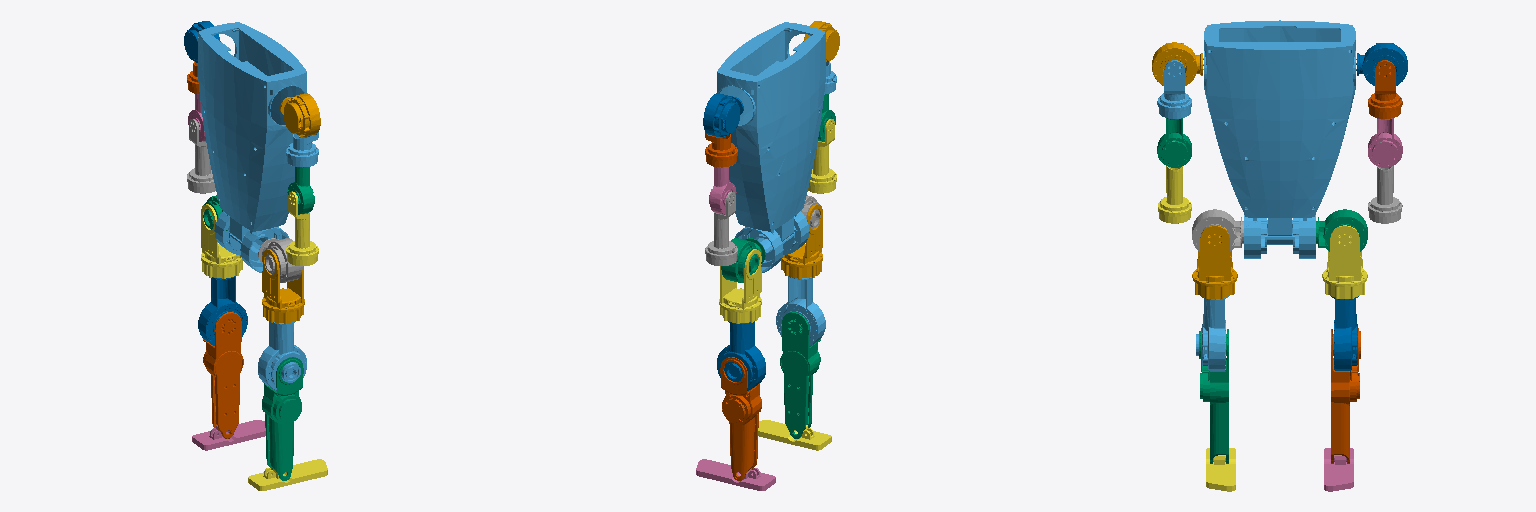
robot.urdf — robot:
<robot name="robot">
  <link name="base">
    <inertial>
      <origin rpy="0.0 0.0 0.0" xyz="0.0 0.0 0.0" />
      <mass value="0.001" />
      <inertia ixx="0.0001" ixy="0.0" ixz="0.0" iyy="0.0001" iyz="0.0" izz="0.0001" />
      </inertial>
    </link>
  <joint name="floating_base" type="fixed">
    <origin rpy="0 0 0" xyz="0 0 0.0" />
    <parent link="base" />
    <child link="trunk" />
    </joint>
  <link name="trunk">
    <inertial>
      <origin rpy="0.0 0.0 0.0" xyz="-0.00051930492 0.00030343937 0.21140495" />
      <mass value="13.05315" />
      <inertia ixx="0.56635021" ixy="-5.2717245e-05" ixz="-0.00020117771" iyy="0.462714" iyz="0.00062003391" izz="0.13193241" />
      </inertial>
    <visual>
      <origin rpy="0.0 0.0 0.0" xyz="0.0 0.0 0.0" />
      <geometry>
        <mesh filename="meshes/trunk.stl" scale="1e-3 1e-3 1e-3" />
        </geometry>
      </visual>
    <collision>
      <origin rpy="0.0 0.0 0.0" xyz="0.0 0.0 0.0" />
      <geometry>
        <mesh filename="meshes/trunk.stl" scale="1e-3 1e-3 1e-3" />
        </geometry>
      </collision>
    </link>
  <joint name="L_hip_y" type="revolute">
    <origin rpy="0 0 0" xyz="0 0.1577 0" />
    <parent link="trunk" />
    <child link="L_buttock" />
    <axis xyz="0.0 1.0 0" />
    <limit effort="120" lower="-3.14" upper="3.14" velocity="5" />
    <dynamics damping="0" friction="0" />
    </joint>
  <link name="L_buttock">
    <inertial>
      <origin rpy="0.0 0.0 0.0" xyz="0.0012918323 -0.0018432774 2.2794594e-05" />
      <mass value="1.2990888" />
      <inertia ixx="0.0020931102" ixy="-1.0314072e-05" ixz="5.1795876e-07" iyy="0.0013118768" iyz="-4.0767562e-07" izz="0.0015000916" />
      </inertial>
    <visual>
      <origin rpy="3.1415926 0 0" xyz="0 0 0" />
      <geometry>
        <mesh filename="meshes/buttock.stl" scale="1e-3 1e-3 1e-3" />
        </geometry>
      </visual>
    <collision>
      <origin rpy="3.1415926 0 0" xyz="0 0 0" />
      <geometry>
        <mesh filename="meshes/buttock.stl" scale="1e-3 1e-3 1e-3" />
        </geometry>
      </collision>
    </link>
  <joint name="L_hip_x" type="revolute">
    <origin rpy="0.0 0.0 0.0" xyz="0 0 0" />
    <parent link="L_buttock" />
    <child link="L_leg" />
    <axis xyz="1.0 0.0 0.0" />
    <limit effort="60" lower="-0.523" upper="2.093" velocity="5" />
    <dynamics damping="0" friction="0" />
    </joint>
  <link name="L_leg">
    <inertial>
      <origin rpy="0.0 0.0 0.0" xyz="0.00070860204 -2.2435483e-05 -0.11035196" />
      <mass value="1.3398346" />
      <inertia ixx="0.00350784" ixy="3.4919088e-07" ixz="-0.00015597216" iyy="0.0037534076" iyz="-7.0069817e-08" izz="0.0018582238" />
      </inertial>
    <visual>
      <geometry>
        <mesh filename="meshes/leg.stl" scale="1e-3 1e-3 1e-3" />
        </geometry>
      </visual>
    <collision>
      <origin rpy="0 0 0" xyz="0 0 0" />
      <geometry>
        <mesh filename="meshes/leg.stl" scale="1e-3 1e-3 1e-3" />
        </geometry>
      </collision>
    </link>
  <joint name="L_hip_z" type="revolute">
    <origin rpy="0.0 0 0.0" xyz="0 0 0" />
    <parent link="L_leg" />
    <child link="L_thigh" />
    <axis xyz="0.0 0.0 1.0" />
    <limit effort="60" lower="-3.14" upper="3.14" velocity="5" />
    <dynamics damping="0" friction="0" />
    </joint>
  <link name="L_thigh">
    <inertial>
      <origin rpy="0.0 0.0 0.0" xyz="-0.00040735676 0.0013053813 -0.29165284" />
      <mass value="1.9399504" />
      <inertia ixx="0.0044937128" ixy="2.1462344e-05" ixz="1.0739651e-05" iyy="0.0060757923" iyz="-2.6643735e-05" izz="0.0029354143" />
      </inertial>
    <visual>
      <geometry>
        <mesh filename="meshes/mthigh.stl" scale="1e-3 1e-3 1e-3" />
        </geometry>
      </visual>
    <collision>
      <origin rpy="0 0 0" xyz="0 0 0" />
      <geometry>
        <mesh filename="meshes/mthigh.stl" scale="1e-3 1e-3 1e-3" />
        </geometry>
      </collision>
    </link>
  <joint name="L_knee" type="revolute">
    <origin rpy="0.0 0.0 0.0" xyz="0 0 -0.3" />
    <parent link="L_thigh" />
    <child link="L_calf" />
    <axis xyz="0.0 1.0 0.0" />
    <limit effort="120" lower="-1.919" upper="1.919" velocity="5" />
    <dynamics damping="0" friction="0" />
    </joint>
  <link name="L_calf">
    <inertial>
      <origin rpy="0.0 0.0 0.0" xyz="-0.0019535236 -0.0043433803 -0.13404794" />
      <mass value="1.544772" />
      <inertia ixx="0.0097259036" ixy="-4.7543777e-05" ixz="-0.00019535575" iyy="0.0098345988" iyz="-0.00037837351" izz="0.0014598955" />
      </inertial>
    <visual>
      <geometry>
        <mesh filename="meshes/mcalf.stl" scale="1e-3 1e-3 1e-3" />
        </geometry>
      </visual>
    <collision>
      <origin rpy="0 0 0" xyz="0 0 0" />
      <geometry>
        <mesh filename="meshes/mcalf.stl" scale="1e-3 1e-3 1e-3" />
        </geometry>
      </collision>
    </link>
  <joint name="L_ankle_y" type="revolute">
    <origin rpy="0.0 0.0 0.0" xyz="0 0 -0.3" />
    <parent link="L_calf" />
    <child link="L_foot" />
    <axis xyz="0.0 1.0 0.0" />
    <limit effort="17" lower="-0.698" upper="0.698" velocity="5" />
    <dynamics damping="0" friction="0" />
    </joint>
  <link name="L_foot">
    <inertial>
      <origin rpy="0.0 0.0 0.0" xyz="0.023366504 0.014827011 -0.016531354" />
      <mass value="0.54237266" />
      <inertia ixx="0.00025746264" ixy="-3.4761901e-05" ixz="3.5533704e-05" iyy="0.0019652138" iyz="3.5259776e-06" izz="0.0021498817" />
      </inertial>
    <visual>
      <geometry>
        <mesh filename="meshes/mfoot.stl" scale="1e-3 1e-3 1e-3" />
        </geometry>
      </visual>
    <collision>
      <origin rpy="0.0 0.0 0.0" xyz="30e-3 -11e-3 -20e-3" />
      <geometry>
        <box size="220e-3 80e-3 15e-3" />
        </geometry>
      </collision>
    </link>
  <joint name="R_hip_y" type="revolute">
    <origin rpy="0 0 0" xyz="0 -0.1577 0" />
    <parent link="trunk" />
    <child link="R_buttock" />
    <axis xyz="0.0 1.0 0" />
    <limit effort="120" lower="-3.14" upper="3.14" velocity="5" />
    <dynamics damping="0" friction="0" />
    </joint>
  <link name="R_buttock">
    <inertial>
      <origin rpy="0.0 0.0 0.0" xyz="0.0012918323 0.0018432774 2.2794594e-05" />
      <mass value="1.2990888" />
      <inertia ixx="0.0020931102" ixy="1.0314072e-05" ixz="5.1795876e-07" iyy="0.0013118768" iyz="4.0767562e-07" izz="0.0015000916" />
      </inertial>
    <visual>
      <origin rpy="0 0 0" xyz="0 0 0" />
      <geometry>
        <mesh filename="meshes/buttock.stl" scale="1e-3 1e-3 1e-3" />
        </geometry>
      </visual>
    <collision>
      <origin rpy="0 0 0" xyz="0 0 0" />
      <geometry>
        <mesh filename="meshes/buttock.stl" scale="1e-3 1e-3 1e-3" />
        </geometry>
      </collision>
    </link>
  <joint name="R_hip_x" type="revolute">
    <origin rpy="0.0 0.0 0.0" xyz="0 0 0" />
    <parent link="R_buttock" />
    <child link="R_leg" />
    <axis xyz="1.0 0.0 0.0" />
    <limit effort="60" lower="-2.093" upper="0.523" velocity="5" />
    <dynamics damping="0" friction="0" />
    </joint>
  <link name="R_leg">
    <inertial>
      <origin rpy="0.0 0.0 0.0" xyz="0.00070860204 2.2435483e-05 -0.11035196" />
      <mass value="1.3398346" />
      <inertia ixx="0.00350784" ixy="-3.4919088e-07" ixz="-0.00015597216" iyy="0.0037534076" iyz="7.0069817e-08" izz="0.0018582238" />
      </inertial>
    <visual>
      <geometry>
        <mesh filename="meshes/leg.stl" scale="1e-3 1e-3 1e-3" />
        </geometry>
      </visual>
    <collision>
      <origin rpy="0 0 0" xyz="0 0 0" />
      <geometry>
        <mesh filename="meshes/leg.stl" scale="1e-3 1e-3 1e-3" />
        </geometry>
      </collision>
    </link>
  <joint name="R_hip_z" type="revolute">
    <origin rpy="0.0 0 0.0" xyz="0 0 0" />
    <parent link="R_leg" />
    <child link="R_thigh" />
    <axis xyz="0.0 0.0 1.0" />
    <limit effort="60" lower="-3.14" upper="3.14" velocity="5" />
    <dynamics damping="0" friction="0" />
    </joint>
  <link name="R_thigh">
    <inertial>
      <origin rpy="0.0 0.0 0.0" xyz="-0.00040735676 -0.0013053813 -0.29165284" />
      <mass value="1.9399504" />
      <inertia ixx="0.0044937128" ixy="-2.1462344e-05" ixz="1.0739651e-05" iyy="0.0060757923" iyz="2.6643735e-05" izz="0.0029354143" />
      </inertial>
    <visual>
      <geometry>
        <mesh filename="meshes/thigh.stl" scale="1e-3 1e-3 1e-3" />
        </geometry>
      </visual>
    <collision>
      <origin rpy="0 0 0" xyz="0 0 0" />
      <geometry>
        <mesh filename="meshes/thigh.stl" scale="1e-3 1e-3 1e-3" />
        </geometry>
      </collision>
    </link>
  <joint name="R_knee" type="revolute">
    <origin rpy="0.0 0.0 0.0" xyz="0 0 -0.3" />
    <parent link="R_thigh" />
    <child link="R_calf" />
    <axis xyz="0.0 1.0 0.0" />
    <limit effort="120" lower="-1.919" upper="1.919" velocity="5" />
    <dynamics damping="0" friction="0" />
    </joint>
  <link name="R_calf">
    <inertial>
      <origin rpy="0.0 0.0 0.0" xyz="-0.0019535236 0.0043433803 -0.13404794" />
      <mass value="1.544772" />
      <inertia ixx="0.0097259036" ixy="4.7543777e-05" ixz="-0.00019535575" iyy="0.0098345988" iyz="0.00037837351" izz="0.0014598955" />
      </inertial>
    <visual>
      <geometry>
        <mesh filename="meshes/calf.stl" scale="1e-3 1e-3 1e-3" />
        </geometry>
      </visual>
    <collision>
      <origin rpy="0 0 0" xyz="0 0 0" />
      <geometry>
        <mesh filename="meshes/calf.stl" scale="1e-3 1e-3 1e-3" />
        </geometry>
      </collision>
    </link>
  <joint name="R_ankle_y" type="revolute">
    <origin rpy="0.0 0.0 0.0" xyz="0 0 -0.3" />
    <parent link="R_calf" />
    <child link="R_foot" />
    <axis xyz="0.0 1.0 0.0" />
    <limit effort="17" lower="-0.698" upper="0.698" velocity="5" />
    <dynamics damping="0" friction="0" />
    </joint>
  <link name="R_foot">
    <inertial>
      <origin rpy="0.0 0.0 0.0" xyz="0.023366504 0.014827011 -0.016531354" />
      <mass value="0.54237266" />
      <inertia ixx="0.00025746264" ixy="-3.4761901e-05" ixz="3.5533704e-05" iyy="0.0019652138" iyz="3.5259776e-06" izz="0.0021498817" />
      </inertial>
    <visual>
      <geometry>
        <mesh filename="meshes/foot.stl" scale="1e-3 1e-3 1e-3" />
        </geometry>
      </visual>
    <collision>
      <origin rpy="0.0 0.0 0.0" xyz="30e-3 11e-3 -20e-3" />
      <geometry>
        <box size="220e-3 80e-3 15e-3" />
        </geometry>
      </collision>
    </link>
  <joint name="L_shoulder_y" type="fixed">
    <origin rpy="0 0 0" xyz="0 0.255 0.45" />
    <parent link="trunk" />
    <child link="L_clav" />
    <axis xyz="0.0 1.0 0.0" />
    <limit effort="60" lower="-3.1416" upper="3.1416" velocity="0" />
    <dynamics damping="0" friction="0" />
    </joint>
  <link name="L_clav">
    <inertial>
      <origin rpy="0.0 0.0 0.0" xyz="0.0012122056 -0.0015095858 -9.3677479e-05" />
      <mass value="1.1246895" />
      <inertia ixx="0.0017070766" ixy="-2.3820729e-06" ixz="-6.7619904e-06" iyy="0.0010595629" iyz="-3.2352008e-07" izz="0.001122517" />
      </inertial>
    <visual>
      <origin rpy="-3.1415926 0 0" xyz="0 0 0" />
      <geometry>
        <mesh filename="meshes/clav.stl" scale="1e-3 1e-3 1e-3" />
        </geometry>
      </visual>
    <collision>
      <origin rpy="-3.1415926 0 0" xyz="0 0 0" />
      <geometry>
        <mesh filename="meshes/clav.stl" scale="1e-3 1e-3 1e-3" />
        </geometry>
      </collision>
    </link>
  <joint name="L_shoulder_x" type="fixed">
    <origin rpy="0.0 0.0 0.0" xyz="0 0 0" />
    <parent link="L_clav" />
    <child link="L_scapula" />
    <axis xyz="1.0 0.0 0.0" />
    <limit effort="60" lower="0" upper="3.1416" velocity="0" />
    <dynamics damping="0" friction="0" />
    </joint>
  <link name="L_scapula">
    <inertial>
      <origin rpy="0.0 0.0 0.0" xyz="0.0038106082 -0.0001642433 -0.095219061" />
      <mass value="0.65454544" />
      <inertia ixx="0.0011234347" ixy="-4.6391796e-06" ixz="-0.00021802428" iyy="0.0011878253" iyz="-1.8375484e-06" izz="0.00058824357" />
      </inertial>
    <visual>
      <geometry>
        <mesh filename="meshes/scap.stl" scale="1e-3 1e-3 1e-3" />
        </geometry>
      </visual>
    <collision>
      <geometry>
        <mesh filename="meshes/scap.stl" scale="1e-3 1e-3 1e-3" />
        </geometry>
      </collision>
    </link>
  <joint name="L_shoulder_z" type="fixed">
    <origin rpy="0.0 0.0 0.0" xyz="0 0 0" />
    <parent link="L_scapula" />
    <child link="L_uarm" />
    <axis xyz="0.0 0.0 1.0" />
    <limit effort="17" lower="-3.14" upper="3.14" velocity="0" />
    <dynamics damping="0" friction="0" />
    </joint>
  <link name="L_uarm">
    <inertial>
      <origin rpy="0.0 0.0 0.0" xyz="-0.0039088302 0.00017072539 -0.22223086" />
      <mass value="0.58244405" />
      <inertia ixx="0.00083861306" ixy="-9.1542325e-08" ixz="0" iyy="0.00067605212" iyz="-2.7860944e-06" izz="0.0003615168" />
      </inertial>
    <visual>
      <geometry>
        <mesh filename="meshes/uarm.stl" scale="1e-3 1e-3 1e-3" />
        </geometry>
      </visual>
    <collision>
      <geometry>
        <mesh filename="meshes/uarm.stl" scale="1e-3 1e-3 1e-3" />
        </geometry>
      </collision>
    </link>
  <joint name="L_elbow_x" type="fixed">
    <origin rpy="0.0 0.0 0.0" xyz="0 0 -0.23" />
    <parent link="L_uarm" />
    <child link="L_farm" />
    <axis xyz="1.0 0 0.0" />
    <limit effort="17" lower="-1.9199" upper="1.9199" velocity="0" />
    <dynamics damping="0" friction="0" />
    </joint>
  <link name="L_farm">
    <inertial>
      <origin rpy="0.0 0.0 0.0" xyz="-0.0024082691 0.00017091831 -0.14069589" />
      <mass value="0.66002606" />
      <inertia ixx="0.0016198862" ixy="3.700055e-06" ixz="0.00013980511" iyy="0.0016516658" iyz="2.349341e-06" izz="0.00054139396" />
      </inertial>
    <visual>
      <geometry>
        <mesh filename="meshes/farm.stl" scale="1e-3 1e-3 1e-3" />
        </geometry>
      </visual>
    <collision>
      <geometry>
        <mesh filename="meshes/farm.stl" scale="1e-3 1e-3 1e-3" />
        </geometry>
      </collision>
    </link>
  <joint name="R_shoulder_y" type="fixed">
    <origin rpy="0 0 0" xyz="0 -0.255 0.45" />
    <parent link="trunk" />
    <child link="R_clav" />
    <axis xyz="0.0 1.0 0.0" />
    <limit effort="60" lower="-3.1416" upper="3.1416" velocity="0" />
    <dynamics damping="0" friction="0" />
    </joint>
  <link name="R_clav">
    <inertial>
      <origin rpy="0.0 0.0 0.0" xyz="0.0012122056 0.0015095858 -9.3677479e-05" />
      <mass value="1.1246895" />
      <inertia ixx="0.0017070766" ixy="2.3820729e-06" ixz="-6.7619904e-06" iyy="0.0010595629" iyz="3.2352008e-07" izz="0.001122517" />
      </inertial>
    <visual>
      <origin rpy="0 0 0" xyz="0 0 0" />
      <geometry>
        <mesh filename="meshes/clav.stl" scale="1e-3 1e-3 1e-3" />
        </geometry>
      </visual>
    <collision>
      <origin rpy="0 0 0" xyz="0 0 0" />
      <geometry>
        <mesh filename="meshes/clav.stl" scale="1e-3 1e-3 1e-3" />
        </geometry>
      </collision>
    </link>
  <joint name="R_shoulder_x" type="fixed">
    <origin rpy="0.0 0.0 0.0" xyz="0 0 0" />
    <parent link="R_clav" />
    <child link="R_scapula" />
    <axis xyz="1.0 0.0 0.0" />
    <limit effort="60" lower="-3.1416" upper="0" velocity="0" />
    <dynamics damping="0" friction="0" />
    </joint>
  <link name="R_scapula">
    <inertial>
      <origin rpy="0.0 0.0 0.0" xyz="0.0038106082 -0.0001642433 -0.095219061" />
      <mass value="0.65454544" />
      <inertia ixx="0.0011234347" ixy="-4.6391796e-06" ixz="-0.00021802428" iyy="0.0011878253" iyz="-1.8375484e-06" izz="0.00058824357" />
      </inertial>
    <visual>
      <geometry>
        <mesh filename="meshes/scap.stl" scale="1e-3 1e-3 1e-3" />
        </geometry>
      </visual>
    <collision>
      <geometry>
        <mesh filename="meshes/scap.stl" scale="1e-3 1e-3 1e-3" />
        </geometry>
      </collision>
    </link>
  <joint name="R_shoulder_z" type="fixed">
    <origin rpy="0.0 0.0 0.0" xyz="0 0 0" />
    <parent link="R_scapula" />
    <child link="R_uarm" />
    <axis xyz="0.0 0.0 1.0" />
    <limit effort="17" lower="-3.14" upper="3.14" velocity="0" />
    <dynamics damping="0" friction="0" />
    </joint>
  <link name="R_uarm">
    <inertial>
      <origin rpy="0.0 0.0 0.0" xyz="-0.0039088302 -0.00017072539 -0.22223086" />
      <mass value="0.58244405" />
      <inertia ixx="0.00083861306" ixy="9.1542325e-08" ixz="0" iyy="0.00067605212" iyz="2.7860944e-06" izz="0.0003615168" />
      </inertial>
    <visual>
      <geometry>
        <mesh filename="meshes/uarm.stl" scale="1e-3 1e-3 1e-3" />
        </geometry>
      </visual>
    <collision>
      <geometry>
        <mesh filename="meshes/uarm.stl" scale="1e-3 1e-3 1e-3" />
        </geometry>
      </collision>
    </link>
  <joint name="R_elbow_x" type="fixed">
    <origin rpy="0.0 0.0 0.0" xyz="0 0 -0.23" />
    <parent link="R_uarm" />
    <child link="R_farm" />
    <axis xyz="1.0 0 0.0" />
    <limit effort="17" lower="-1.9199" upper="1.9199" velocity="0" />
    <dynamics damping="0" friction="0" />
    </joint>
  <link name="R_farm">
    <inertial>
      <origin rpy="0.0 0.0 0.0" xyz="-0.0024082691 -0.00017091831 -0.14069589" />
      <mass value="0.66002606" />
      <inertia ixx="0.0016198862" ixy="-3.700055e-06" ixz="0.00013980511" iyy="0.0016516658" iyz="-2.349341e-06" izz="0.00054139396" />
      </inertial>
    <visual>
      <geometry>
        <mesh filename="meshes/farm.stl" scale="1e-3 1e-3 1e-3" />
        </geometry>
      </visual>
    <collision>
      <geometry>
        <mesh filename="meshes/farm.stl" scale="1e-3 1e-3 1e-3" />
        </geometry>
      </collision>
    </link>
  </robot>

--- What the picture shows (computed from the rendered views, not written in the file) ---
3 views of the same robot in one strip: view 1: azimuth 30°, elevation 25°; view 2: azimuth 150°, elevation 25°; view 3: azimuth 270°, elevation 25° (orthographic).
Model robot with 20 links and 19 joints (10 revolute, 9 fixed), rooted at base, posed every joint at zero.
Links seen in each view (by area): view 1: trunk, L_calf, R_calf, R_leg, R_thigh, L_thigh, L_leg, R_clav, R_farm, R_foot, L_farm, L_foot (+4 smaller); view 2: trunk, R_calf, L_calf, L_leg, L_thigh, R_thigh, R_leg, L_clav, L_farm, L_foot, R_farm, R_foot (+4 smaller); view 3: trunk, L_leg, R_leg, L_calf, R_calf, R_thigh, L_thigh, R_scapula, L_scapula, L_farm, R_farm, R_clav (+7 smaller).
Boxes of the visible links, left/top/right/bottom form: trunk: left=198, top=22, right=306, bottom=272; L_calf: left=202, top=312, right=243, bottom=438; R_calf: left=262, top=357, right=303, bottom=480; R_leg: left=262, top=249, right=304, bottom=323; R_thigh: left=258, top=321, right=306, bottom=390; L_thigh: left=198, top=276, right=247, bottom=345; L_leg: left=201, top=204, right=242, bottom=278; R_clav: left=280, top=93, right=320, bottom=137; R_farm: left=286, top=191, right=318, bottom=265; R_foot: left=248, top=459, right=327, bottom=490; L_farm: left=187, top=119, right=215, bottom=193; L_foot: left=192, top=420, right=265, bottom=450; trunk: left=717, top=22, right=825, bottom=272; R_calf: left=780, top=312, right=821, bottom=438; L_calf: left=720, top=357, right=761, bottom=480; L_leg: left=719, top=249, right=761, bottom=323; L_thigh: left=717, top=321, right=765, bottom=390; R_thigh: left=776, top=276, right=825, bottom=345; R_leg: left=781, top=204, right=822, bottom=278; L_clav: left=703, top=93, right=743, bottom=137; L_farm: left=705, top=191, right=737, bottom=265; L_foot: left=696, top=459, right=775, bottom=490; R_farm: left=808, top=119, right=836, bottom=193; R_foot: left=758, top=420, right=831, bottom=450; trunk: left=1204, top=20, right=1355, bottom=258; L_leg: left=1322, top=225, right=1367, bottom=298; R_leg: left=1192, top=225, right=1237, bottom=298; L_calf: left=1331, top=328, right=1360, bottom=463; R_calf: left=1199, top=328, right=1228, bottom=463; R_thigh: left=1196, top=296, right=1228, bottom=370; L_thigh: left=1331, top=296, right=1358, bottom=370; R_scapula: left=1157, top=60, right=1191, bottom=118; L_scapula: left=1368, top=60, right=1402, bottom=118; L_farm: left=1368, top=141, right=1402, bottom=223; R_farm: left=1158, top=141, right=1191, bottom=223; R_clav: left=1152, top=42, right=1203, bottom=85.
Size in the robot's own frame: 0.225 by 0.62 by 1.16 metres.
Meshes: 13 distinct files referenced, 19 mesh visuals loaded (13 binary STL).